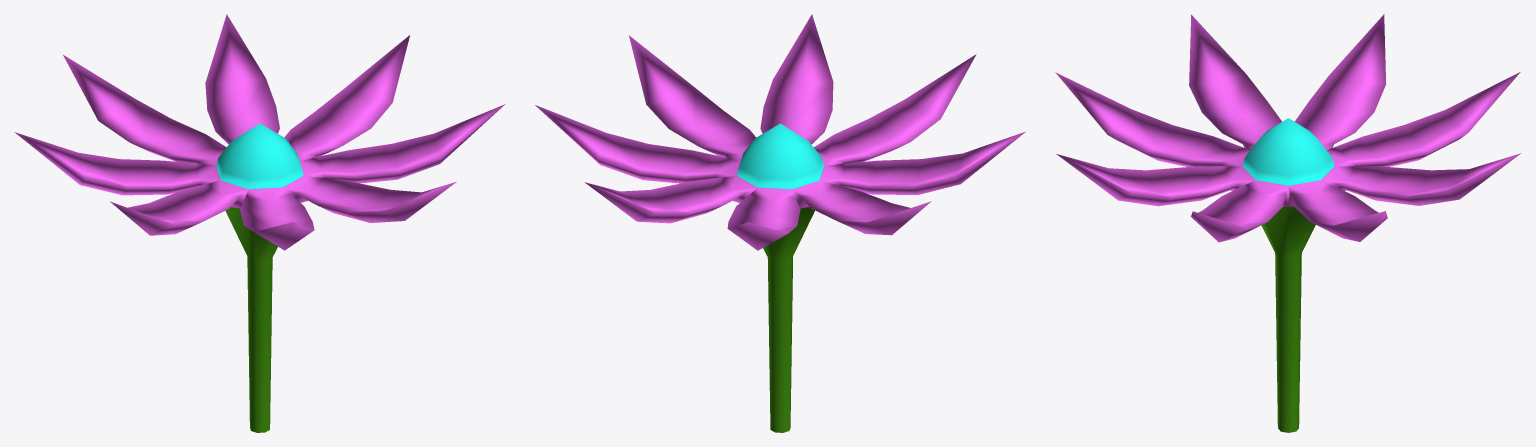
Rendered from Daisy1_Pink.fbx.
The picture shows the model from 3 angles, left to right: view 1: azimuth 30°, elevation 25°; view 2: azimuth 150°, elevation 25°; view 3: azimuth 270°, elevation 25°; orthographic projection.
Parts seen in each view (by area): view 1: Imported OBJ Object; view 2: Imported OBJ Object; view 3: Imported OBJ Object.
Boxes of the visible parts, x1,y1,x2,y2 form: Imported OBJ Object: [14, 14, 505, 432]; Imported OBJ Object: [535, 14, 1025, 432]; Imported OBJ Object: [1055, 14, 1520, 432].
Bounding box in the file's own units: 71.59 × 53.47 × 71.59.
